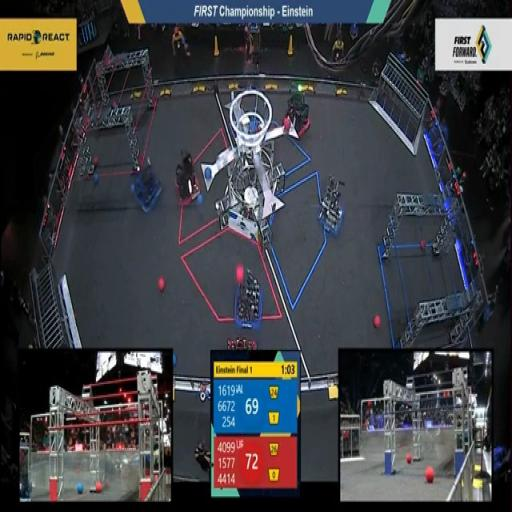robot: (313, 172, 347, 240), (130, 152, 166, 216), (233, 266, 267, 332), (172, 151, 203, 212), (282, 83, 312, 143), (223, 330, 259, 355)
